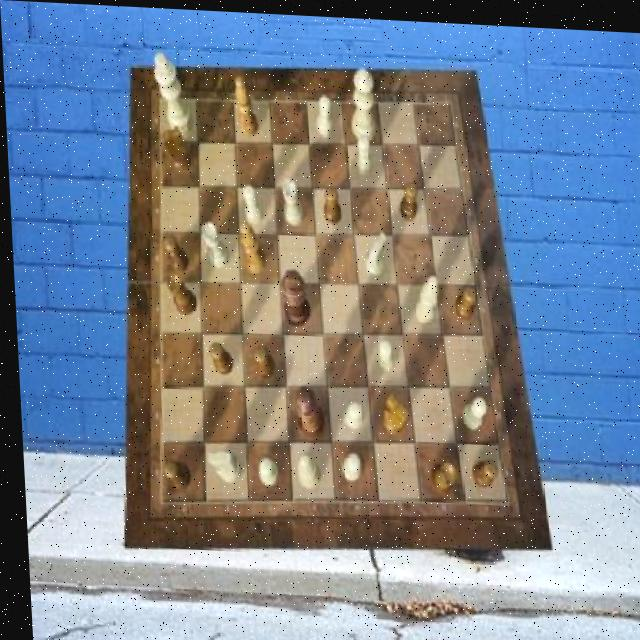bishop: (233, 74, 257, 135), (238, 218, 264, 270)
black-bishop: (280, 266, 309, 324)
black-king: (157, 123, 189, 170), (377, 388, 405, 431)
black-knight: (161, 234, 187, 271), (450, 281, 474, 317), (158, 459, 187, 488), (206, 340, 230, 374), (249, 343, 271, 377), (321, 182, 340, 220), (397, 178, 416, 216), (469, 456, 494, 484)
black-pawn: (291, 382, 322, 437)
black-queen: (163, 271, 195, 315), (425, 455, 454, 491)
black-rook: (411, 270, 437, 320), (292, 450, 316, 487)
white-bishop: (152, 51, 193, 134)
white-king: (363, 228, 388, 277), (202, 449, 237, 483)
white-knight: (458, 392, 484, 427), (241, 183, 262, 223), (352, 133, 371, 173), (314, 93, 332, 135), (372, 336, 391, 369), (254, 456, 275, 484), (336, 450, 356, 479), (340, 398, 360, 426)
white-pawn: (350, 65, 377, 140)
white-queen: (200, 220, 228, 267), (281, 177, 303, 224)
